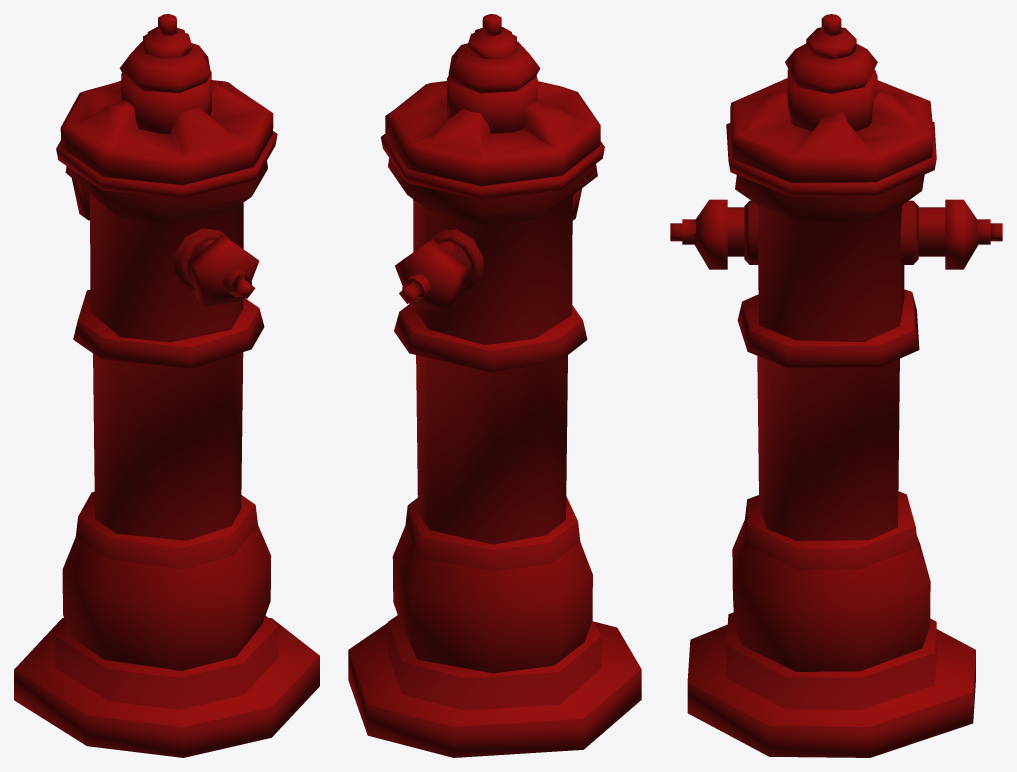
The model's file is FireHydrant_Regular.fbx.
3 views of the same model, side by side, from view 1: azimuth 30°, elevation 25°; view 2: azimuth 150°, elevation 25°; view 3: azimuth 270°, elevation 25° (orthographic).
Parts seen in each view (by area): view 1: FireHydrant_Regular; view 2: FireHydrant_Regular; view 3: FireHydrant_Regular.
Boxes of the visible parts, bbox=[...] form: FireHydrant_Regular: bbox=[14, 14, 319, 757]; FireHydrant_Regular: bbox=[348, 14, 641, 757]; FireHydrant_Regular: bbox=[670, 14, 1002, 757].
Size of the model in its own units: 32.58 by 85.61 by 37.93.
